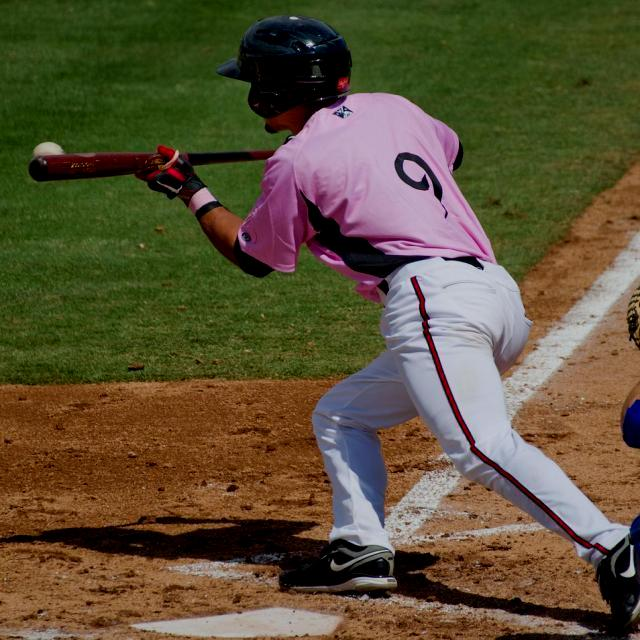ball: (30, 142, 66, 160)
bat: (30, 144, 274, 182)
